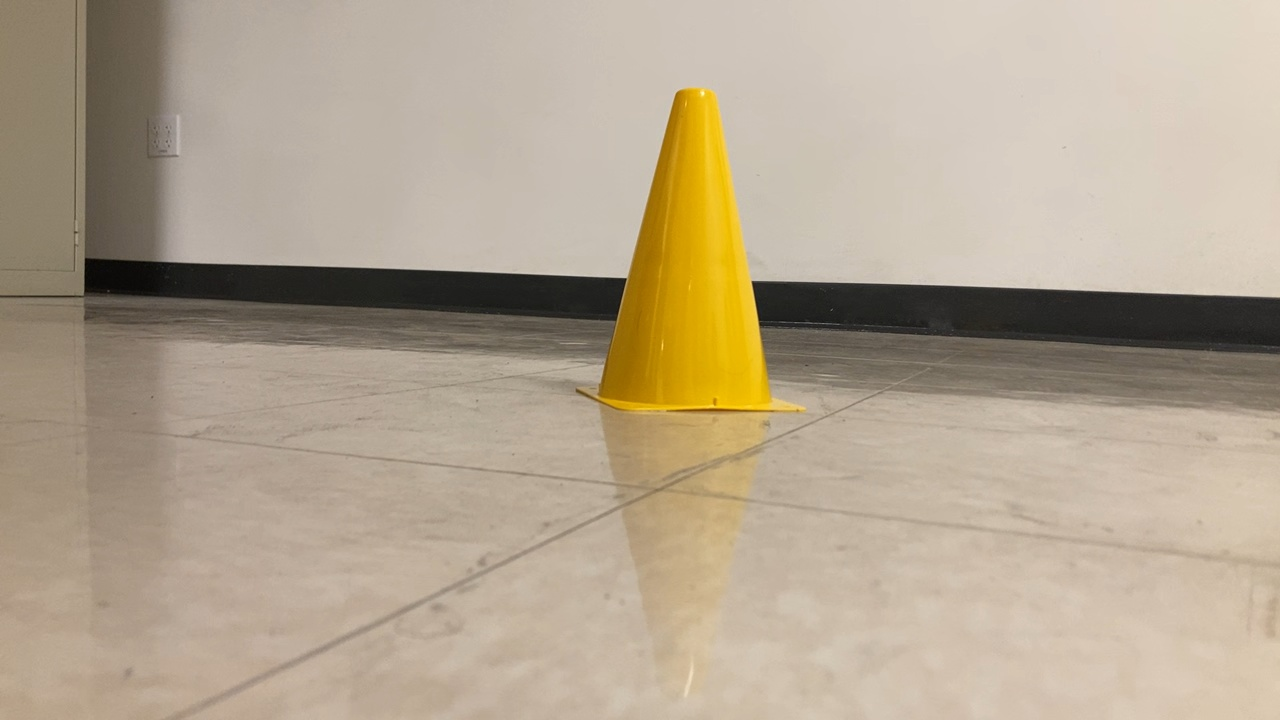yellow_cone: (568, 78, 805, 425)
